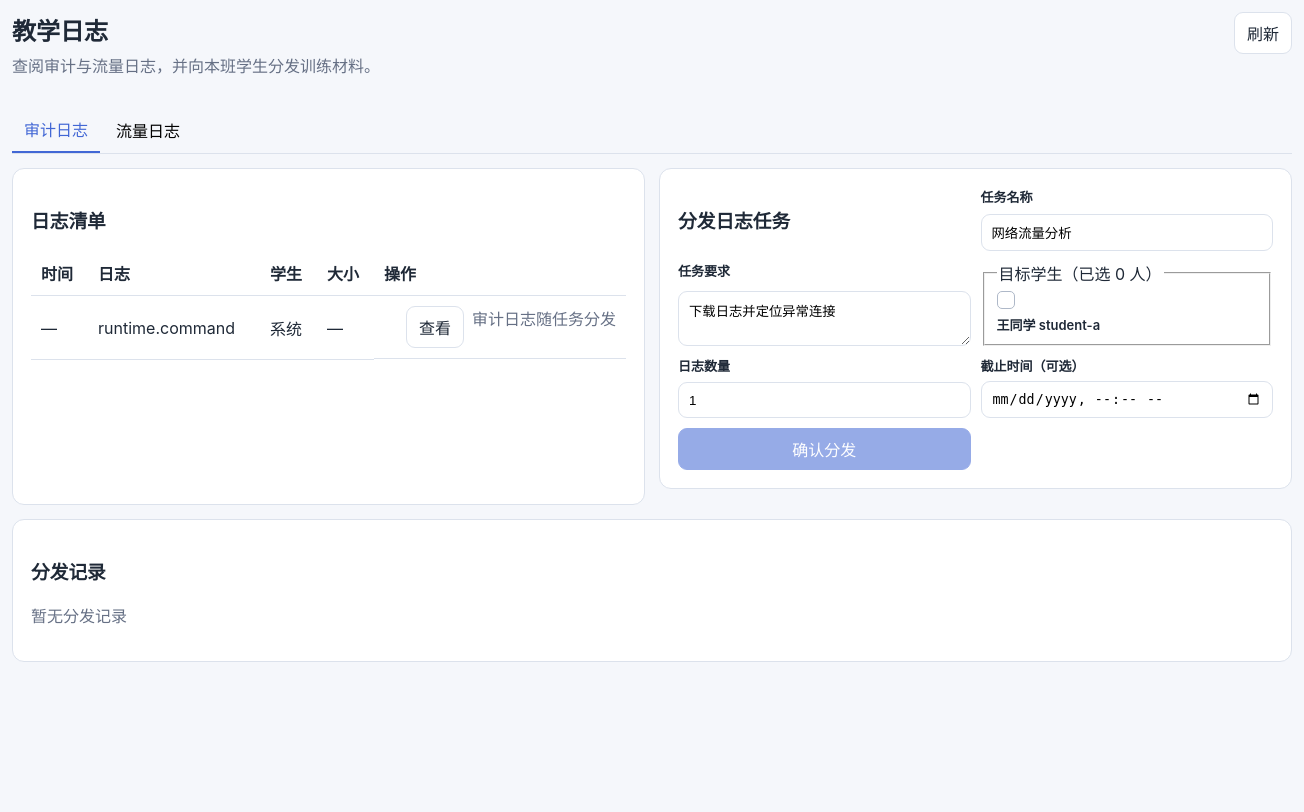
Test: 日志读取失败后撤销旧目标名单，不能继续提交分发
Click the checkbox named "王同学 student-a" at {"x": 1006, "y": 300}, box [996,291,1014,309]
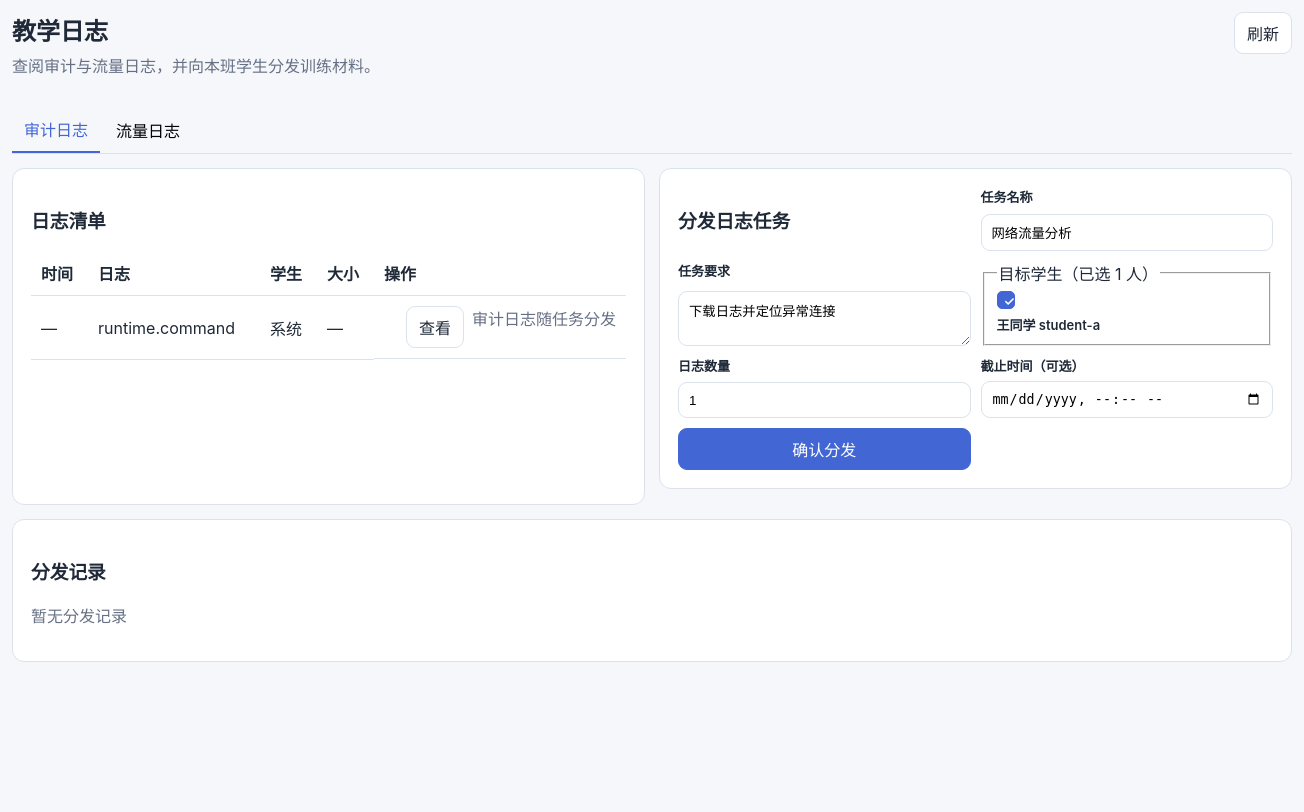
Check: the button "确认分发" is enabled, box [678,428,970,470]
Click the button "刷新" at {"x": 1263, "y": 33}, box [1234,12,1292,54]
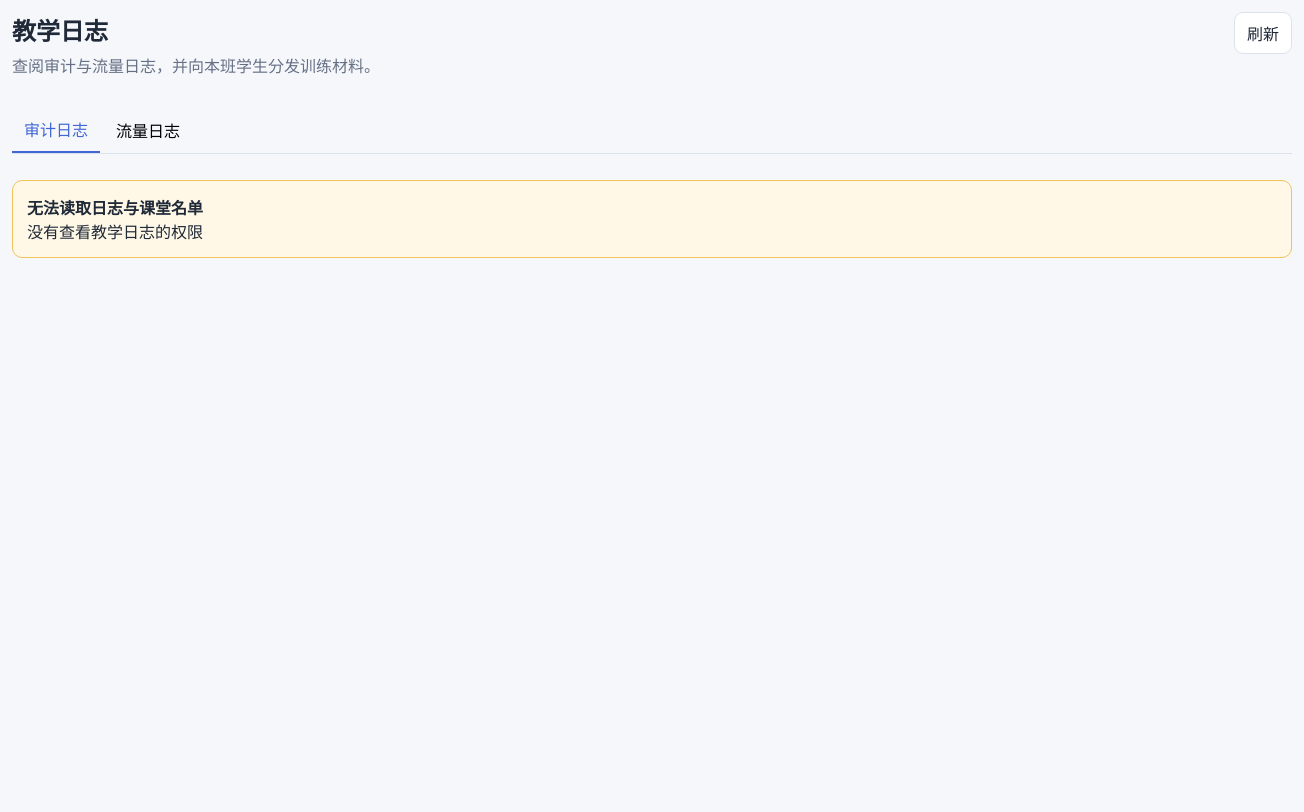
Check: the text "没有查看教学日志的权限" is shown, box [27,222,203,242]
Check: the text "王同学" is gone
